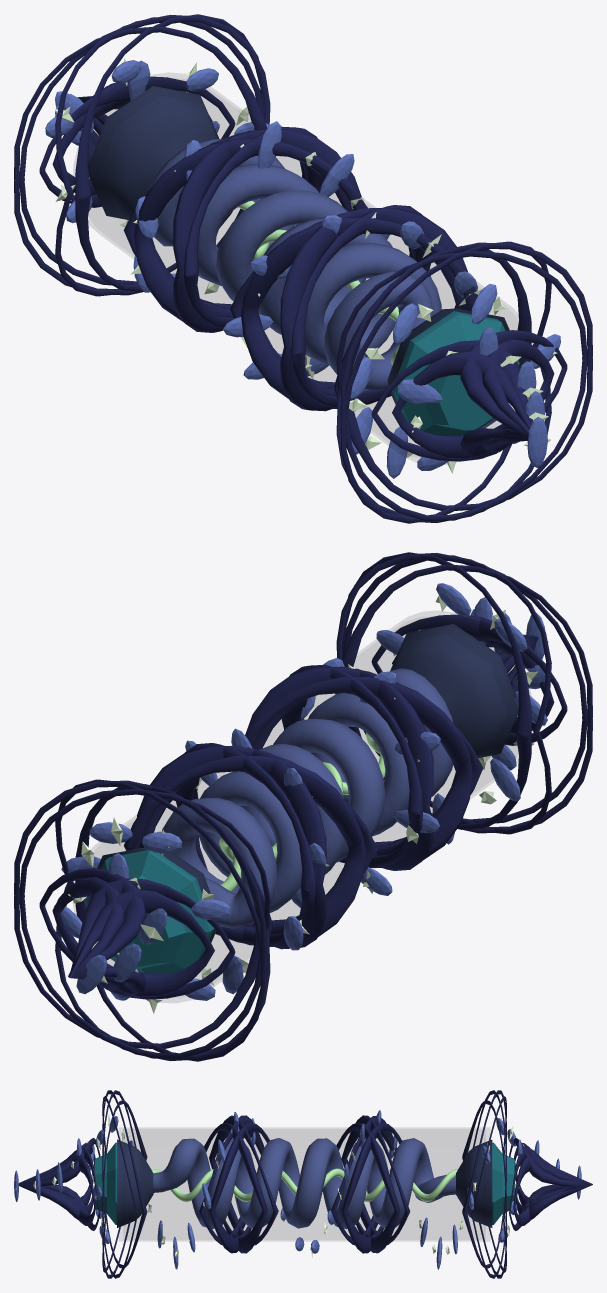
File: st3_thorn stick.fbx
The picture shows the model from 3 angles, top to bottom: view 1: azimuth 30°, elevation 25°; view 2: azimuth 150°, elevation 25°; view 3: azimuth 270°, elevation 25°; orthographic projection. The views are drawn at different scales.
Visible parts, largest first — view 1: 2curve_base, 1curve_base, 2curve_sphere, 1curve_sub1, 1stick_base, 1curve_sub2, 2curve_star, 1curve_sub3; view 2: 2curve_base, 1curve_base, 2curve_sphere, 1curve_sub1, 1stick_base, 1curve_sub2, 2curve_star, 1curve_sub3; view 3: 2curve_base, 1curve_base, 1stick_base, 1curve_sub1, 2curve_sphere, 1curve_sub2, 1curve_sub3, 2curve_star.
Part boxes in pixels (x1,y1,x2,y2): 2curve_base: [14, 14, 592, 523]; 1curve_base: [149, 139, 441, 390]; 2curve_sphere: [45, 60, 560, 478]; 1curve_sub1: [88, 86, 523, 438]; 1stick_base: [88, 78, 527, 458]; 1curve_sub2: [392, 311, 519, 436]; 2curve_star: [55, 58, 557, 473]; 1curve_sub3: [238, 200, 399, 365]; 2curve_base: [14, 552, 592, 1061]; 1curve_base: [161, 668, 453, 928]; 2curve_sphere: [52, 583, 547, 1000]; 1curve_sub1: [83, 624, 518, 976]; 1stick_base: [79, 616, 518, 997]; 1curve_sub2: [87, 850, 214, 974]; 2curve_star: [68, 596, 548, 1013]; 1curve_sub3: [219, 732, 385, 891]; 2curve_base: [18, 1090, 592, 1278]; 1curve_base: [153, 1138, 455, 1229]; 1stick_base: [123, 1129, 485, 1239]; 1curve_sub1: [117, 1139, 492, 1227]; 2curve_sphere: [14, 1110, 581, 1269]; 1curve_sub2: [94, 1142, 514, 1224]; 1curve_sub3: [152, 1168, 457, 1201]; 2curve_star: [15, 1115, 524, 1257].
Size of the model in its own units: 361 by 366 by 1163.
